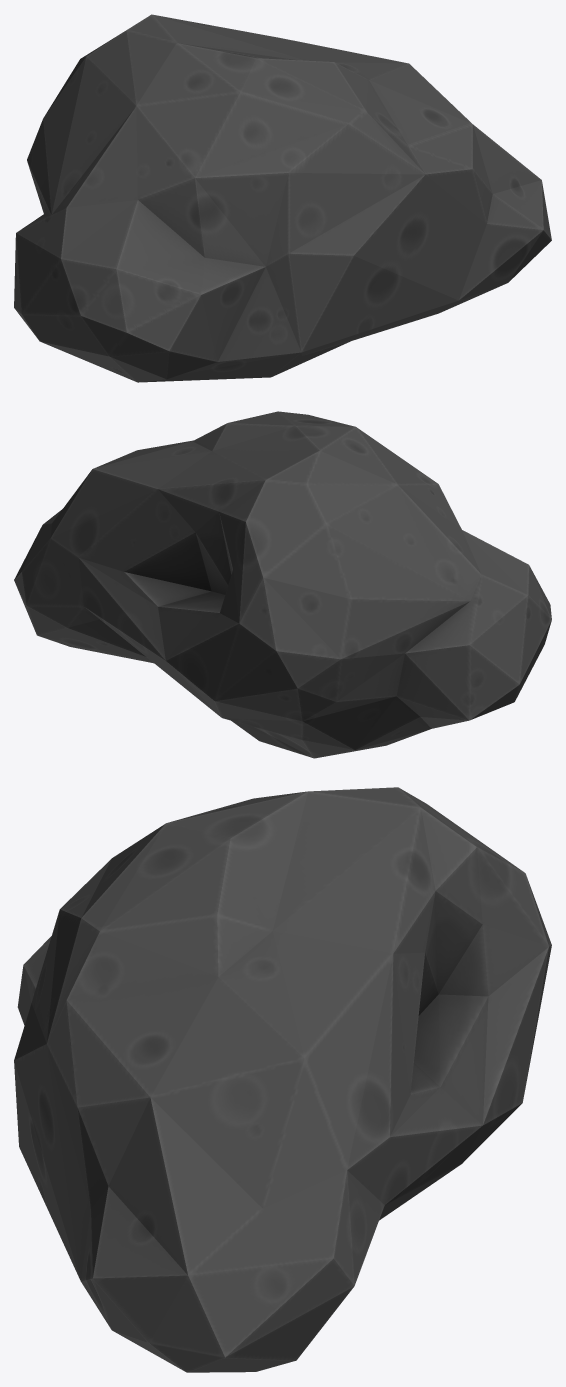
Rendered from rock_8.obj.
3 renders of one model, top to bottom at view 1: azimuth 30°, elevation 25°; view 2: azimuth 150°, elevation 25°; view 3: azimuth 270°, elevation 25°, orthographic. The views are drawn at different scales.
Parts seen in each view (by area): view 1: Asteroids_Mesh.008; view 2: Asteroids_Mesh.008; view 3: Asteroids_Mesh.008.
Boxes of the visible parts, left/top/right/bottom form: Asteroids_Mesh.008: left=14, top=14, right=551, bottom=382; Asteroids_Mesh.008: left=14, top=411, right=551, bottom=758; Asteroids_Mesh.008: left=14, top=787, right=551, bottom=1372.
Size of the model in its own units: 8.08 by 4.74 by 5.15.
